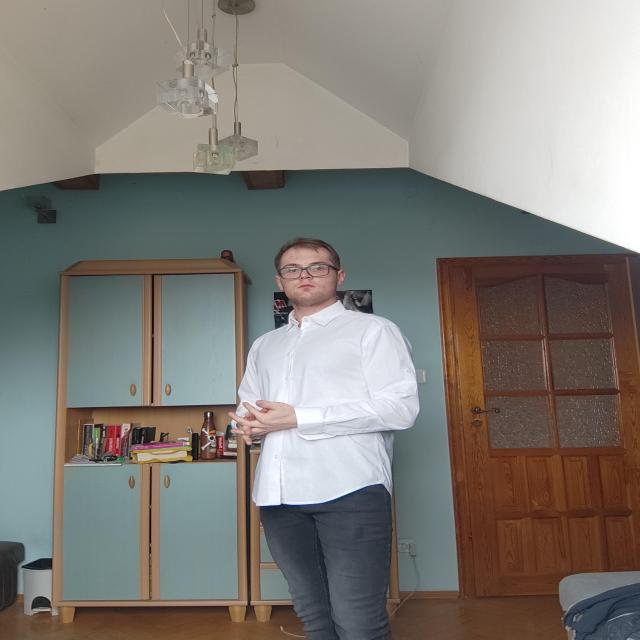pants: (259, 471, 391, 640)
shirt: (231, 303, 420, 507)
